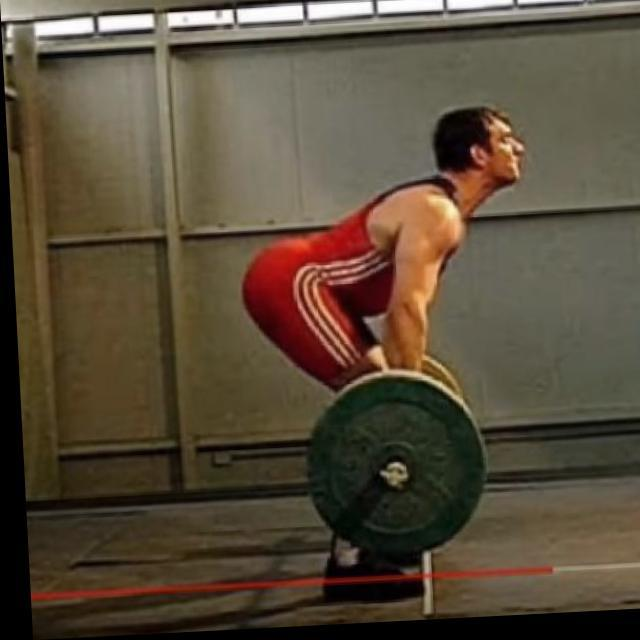barbell: (292, 367, 486, 568)
